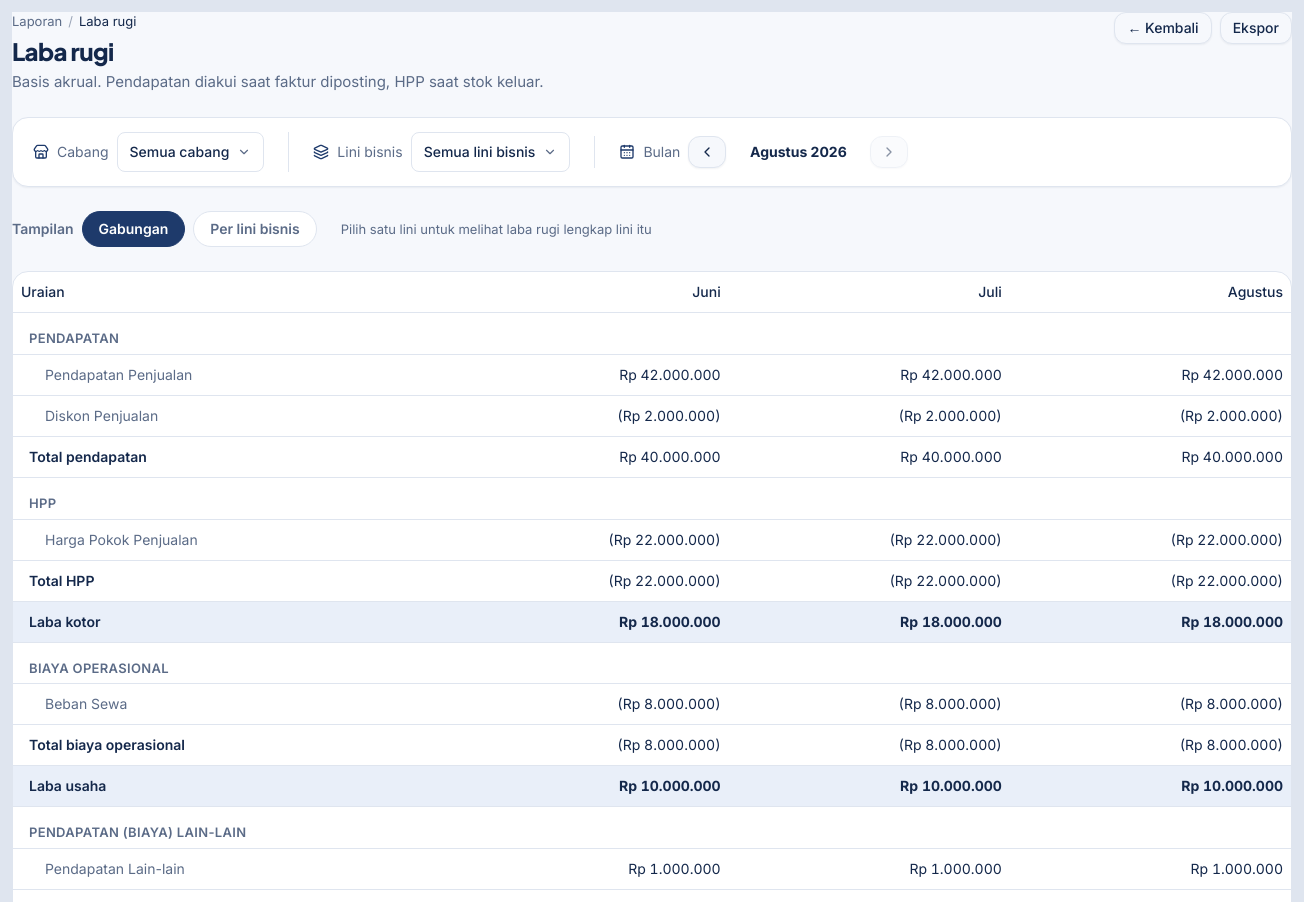
Scenario: ProfitLossScreen › steps back a month and reads the three months before it
Expected: the text "Total pendapatan" is shown, [13,436,448,477]
Click the button named "Bulan sebelumnya" at point(707, 152), box [688,136,726,168]
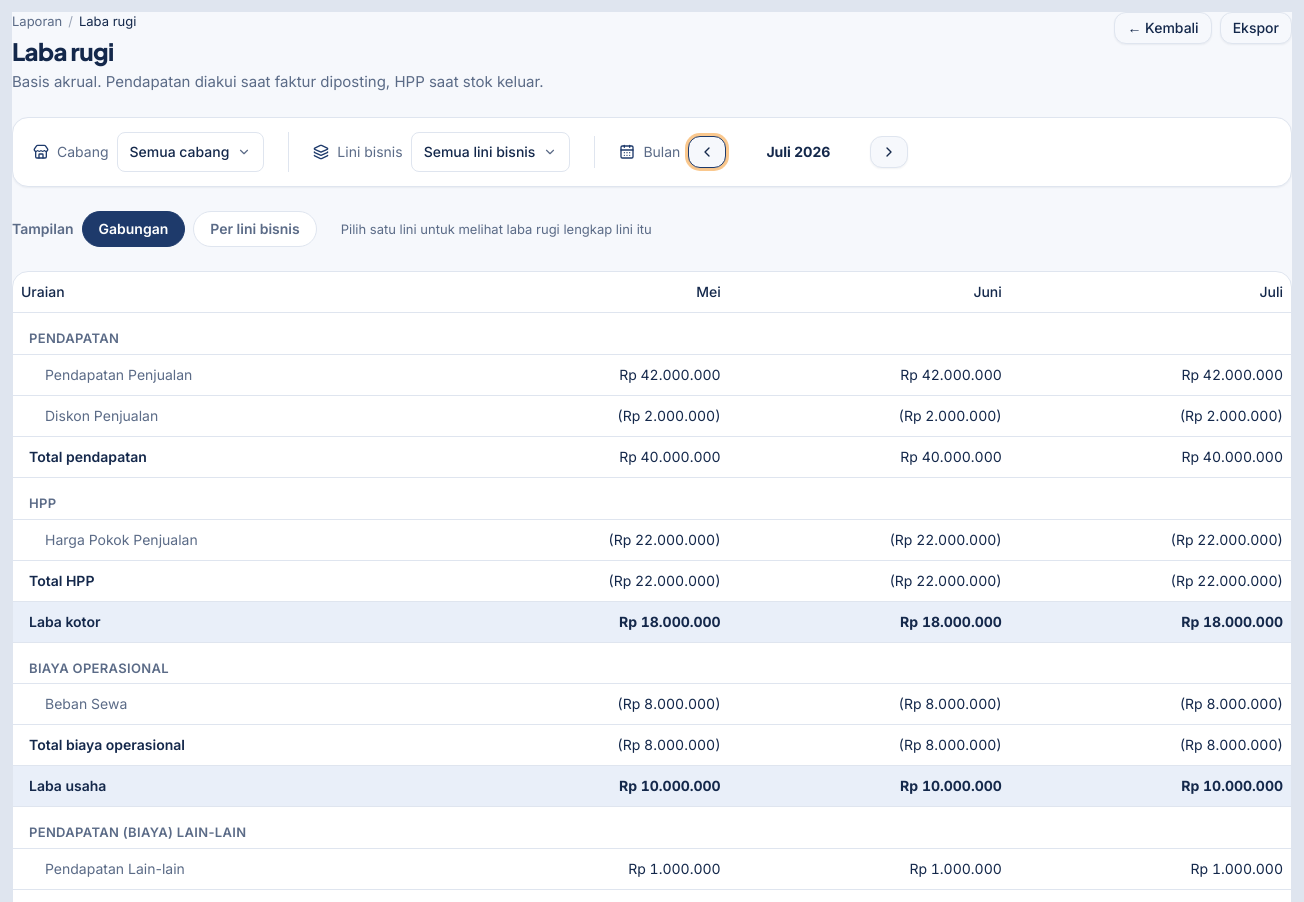
Result: the column headings read "Uraian", "Mei", "Juni", "Juli", in this order at [13,272,448,312]; [448,272,729,312]; [729,272,1010,312]; [1010,272,1291,312]
